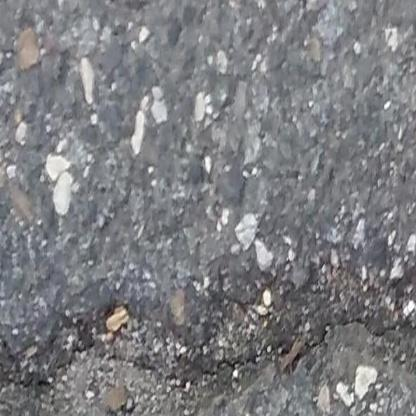Cracks: (0, 242, 416, 416)
